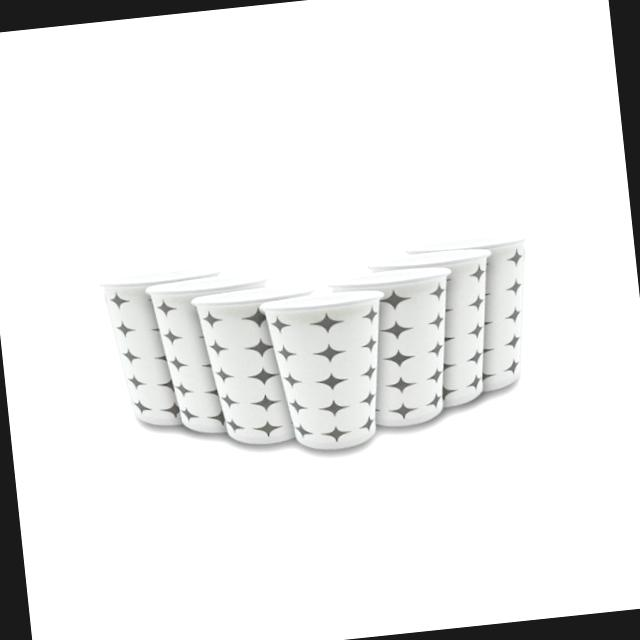trash: (86, 224, 608, 482)
